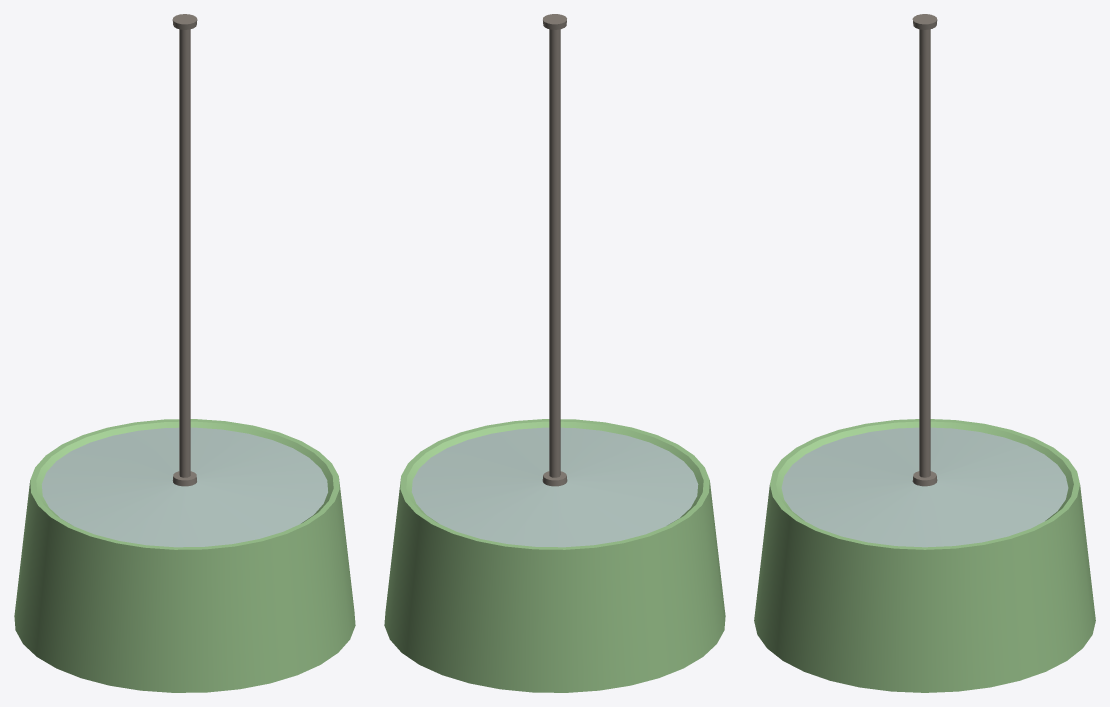
Rendered from lampCylCeiling.fbx.
3 renders of one model, left to right at view 1: azimuth 30°, elevation 25°; view 2: azimuth 150°, elevation 25°; view 3: azimuth 270°, elevation 25°, orthographic.
Parts seen in each view (by area): view 1: lampCylCeiling; view 2: lampCylCeiling; view 3: lampCylCeiling.
Part boxes in pixels (x1=…): lampCylCeiling: x1=14, y1=14, x2=355, y2=692; lampCylCeiling: x1=384, y1=14, x2=725, y2=692; lampCylCeiling: x1=754, y1=14, x2=1095, y2=692.
Size of the model in its own units: 51.5 by 100 by 51.5.
